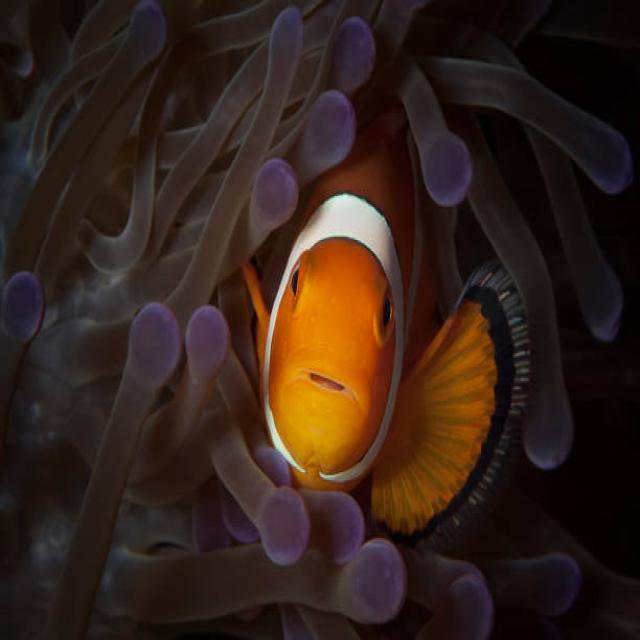ClownFish: (248, 108, 523, 543)
